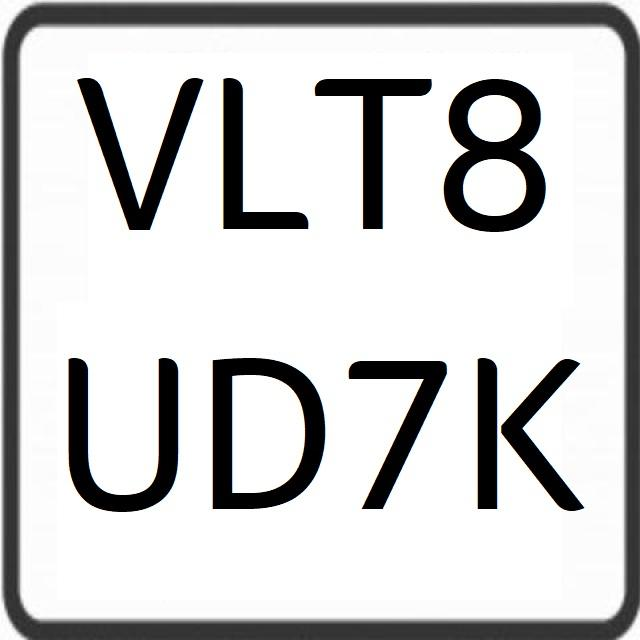8: (440, 52, 555, 245)
D: (208, 347, 336, 525)
K: (472, 332, 596, 530)
L: (218, 57, 318, 249)
T: (313, 54, 431, 251)
V: (74, 56, 212, 252)
